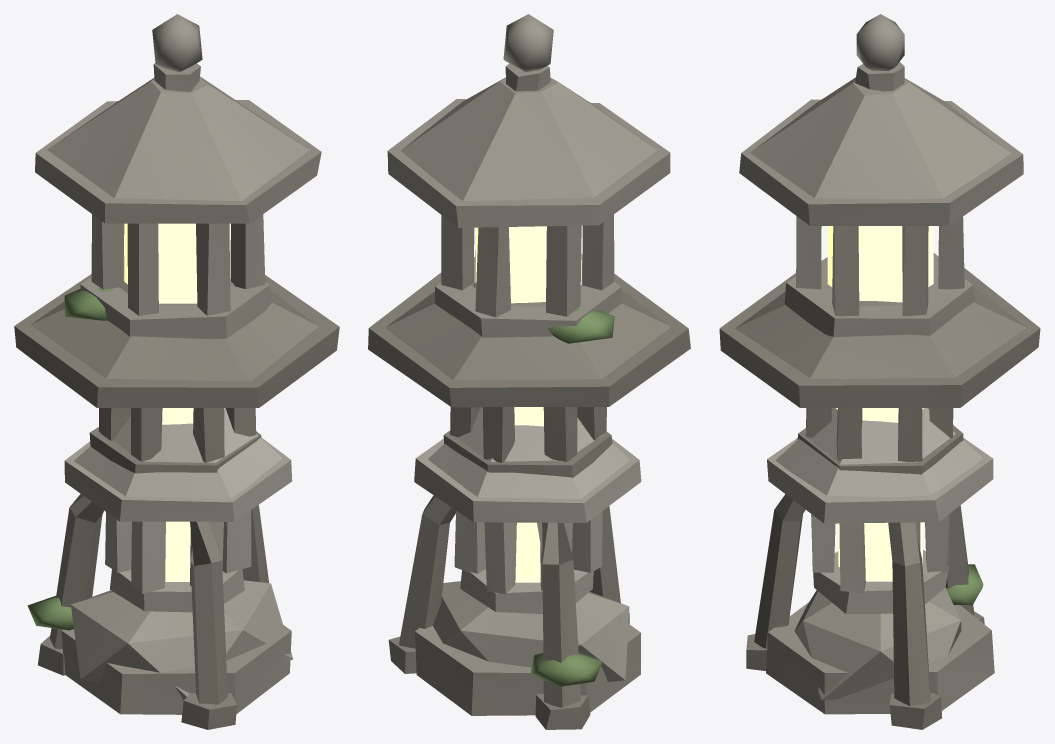
The model's file is lantern.stone.glb.
3 renders of one model, left to right at view 1: azimuth 30°, elevation 25°; view 2: azimuth 150°, elevation 25°; view 3: azimuth 270°, elevation 25°, orthographic.
Parts seen in each view (by area): view 1: lantern.stone.v0.mesh, lantern.stone.v1.mesh, lantern.stone.v2.mesh; view 2: lantern.stone.v0.mesh, lantern.stone.v1.mesh, lantern.stone.v2.mesh; view 3: lantern.stone.v0.mesh, lantern.stone.v1.mesh, lantern.stone.v2.mesh.
Boxes of the visible parts, box(x1,y1,x2,y2) form: lantern.stone.v0.mesh: box(35, 14, 321, 714); lantern.stone.v1.mesh: box(14, 274, 339, 729); lantern.stone.v2.mesh: box(27, 408, 292, 700); lantern.stone.v0.mesh: box(387, 14, 670, 715); lantern.stone.v1.mesh: box(368, 272, 690, 729); lantern.stone.v2.mesh: box(414, 407, 641, 686); lantern.stone.v0.mesh: box(739, 14, 1023, 714); lantern.stone.v1.mesh: box(719, 268, 1040, 729); lantern.stone.v2.mesh: box(767, 408, 993, 700).
Size of the model in its own units: 0.5957 by 1.54 by 0.6806.
